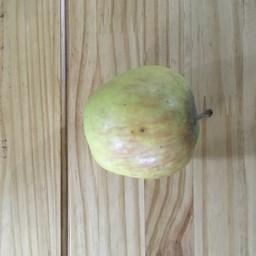Good_apple: (76, 62, 202, 184)
